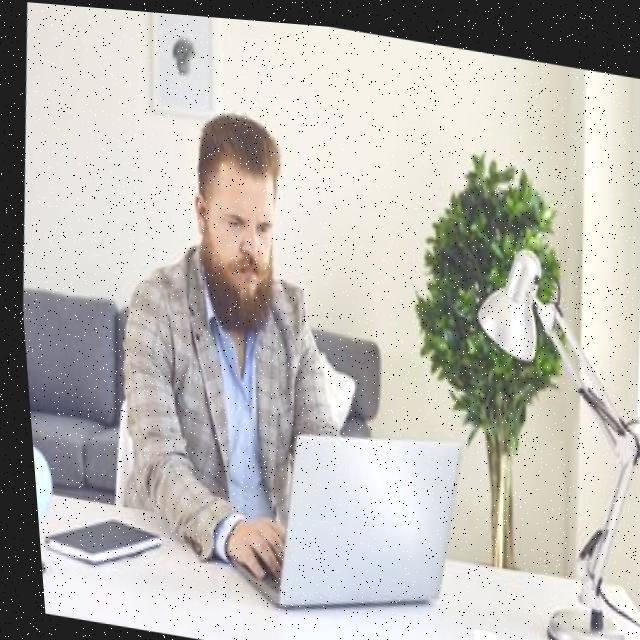notebook-person: (76, 79, 501, 639)
